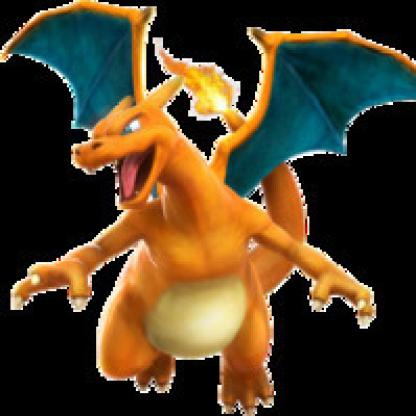Charizard: (1, 1, 415, 415)
